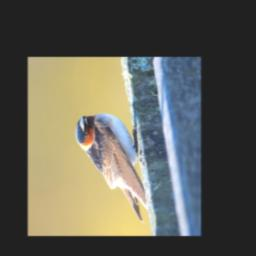Swallow: (73, 111, 153, 223)
